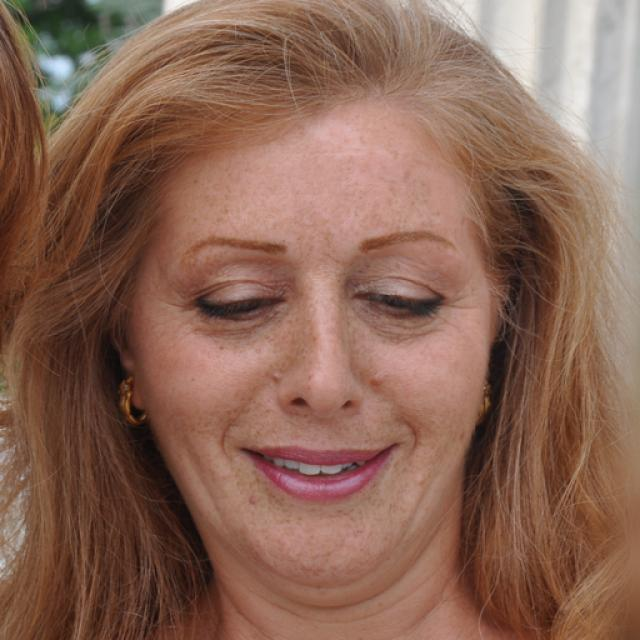Acne: (367, 372, 389, 390), (240, 493, 262, 509), (263, 368, 283, 385), (413, 471, 430, 485)
Pigmentation: (231, 490, 408, 574), (259, 301, 384, 375)
